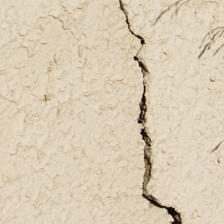Crack: (59, 2, 128, 222)
